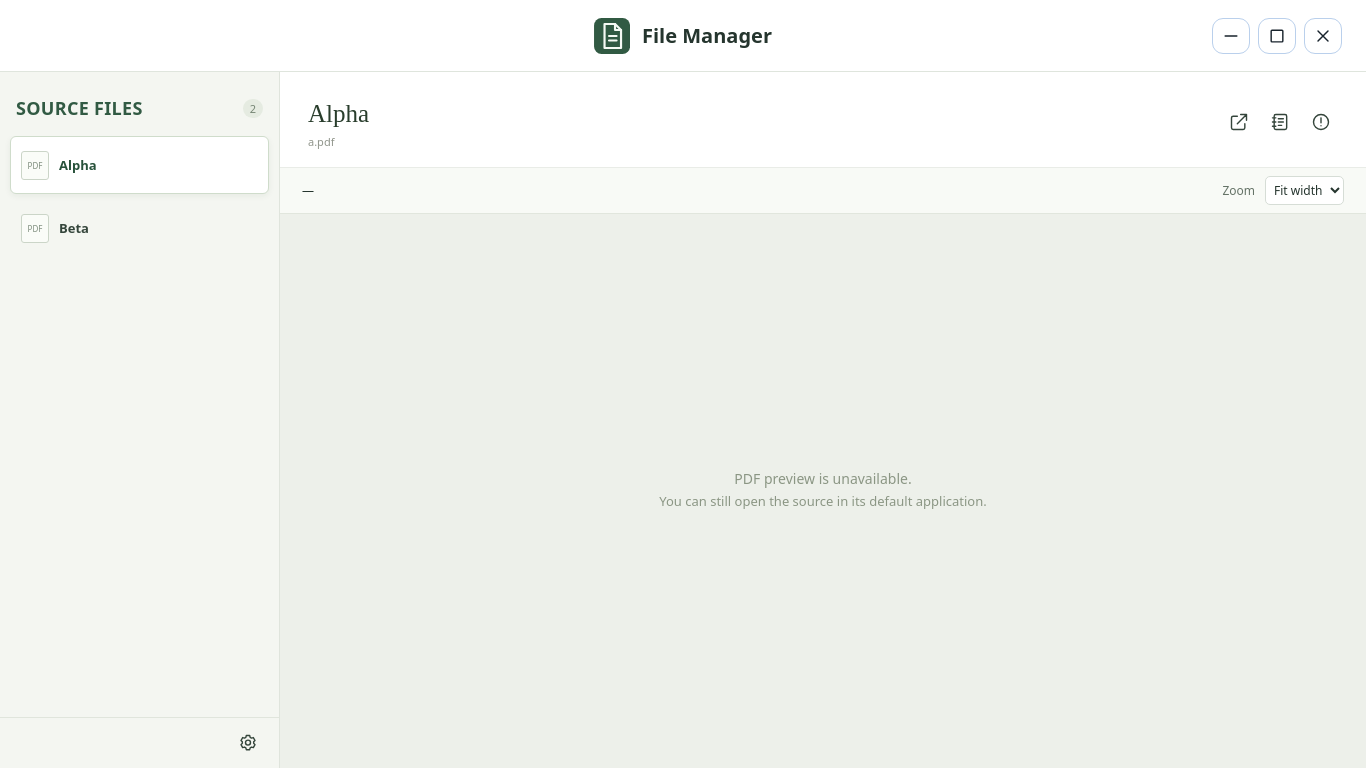
Scenario: core interactions › opens saved notes in Preview and keeps information edits when the dialog closes
The image size is (1366, 768).
Expected: the heading "Alpha" is shown, [308,100,369,128]
Expected: the button named "Details" is enabled, [1304,104,1338,138]
Step 1. Click the button named "Notes" → (1280, 122), box [1263,104,1297,138]
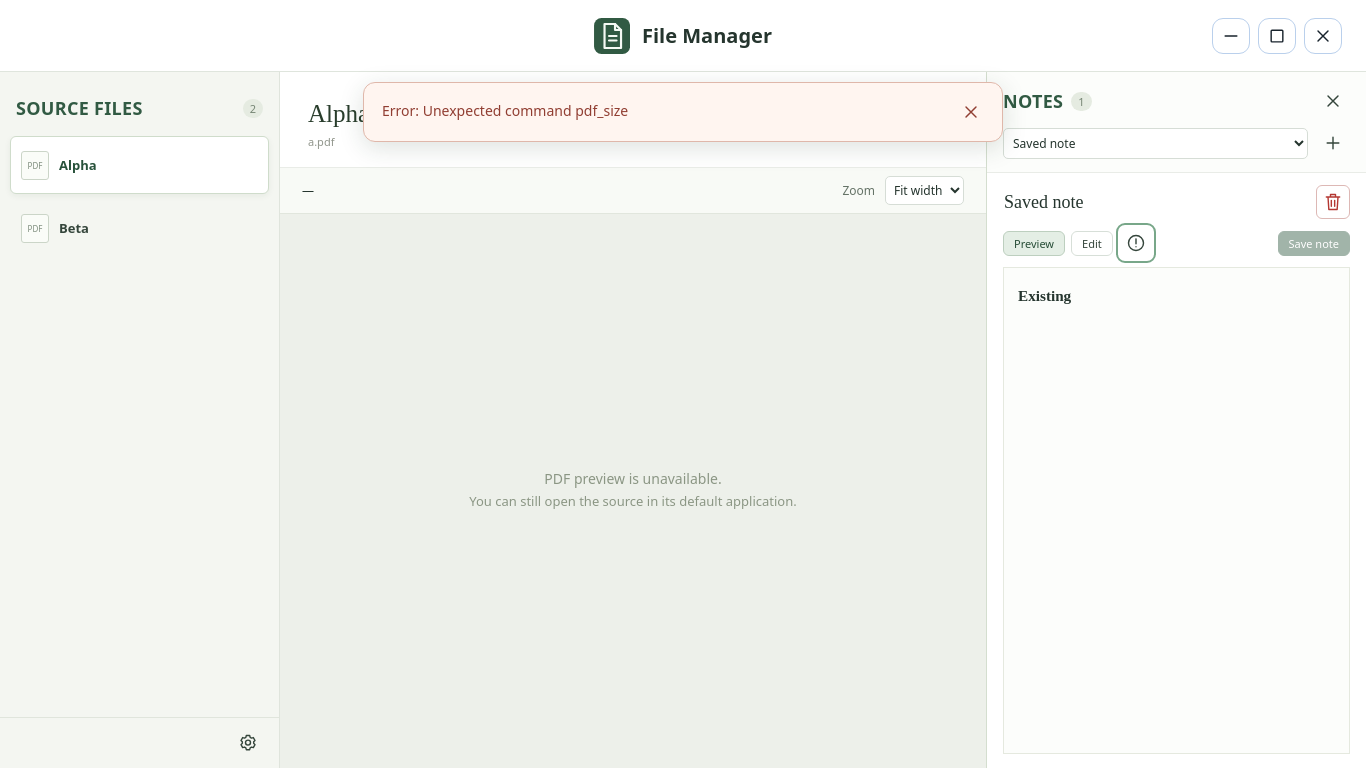
Expected: the text "File size" is not shown
Now the heading "Existing" is shown, box [1018,287,1071,304]
Step 2. Click the button named "Information" → (1136, 243), box [1119,226,1153,260]
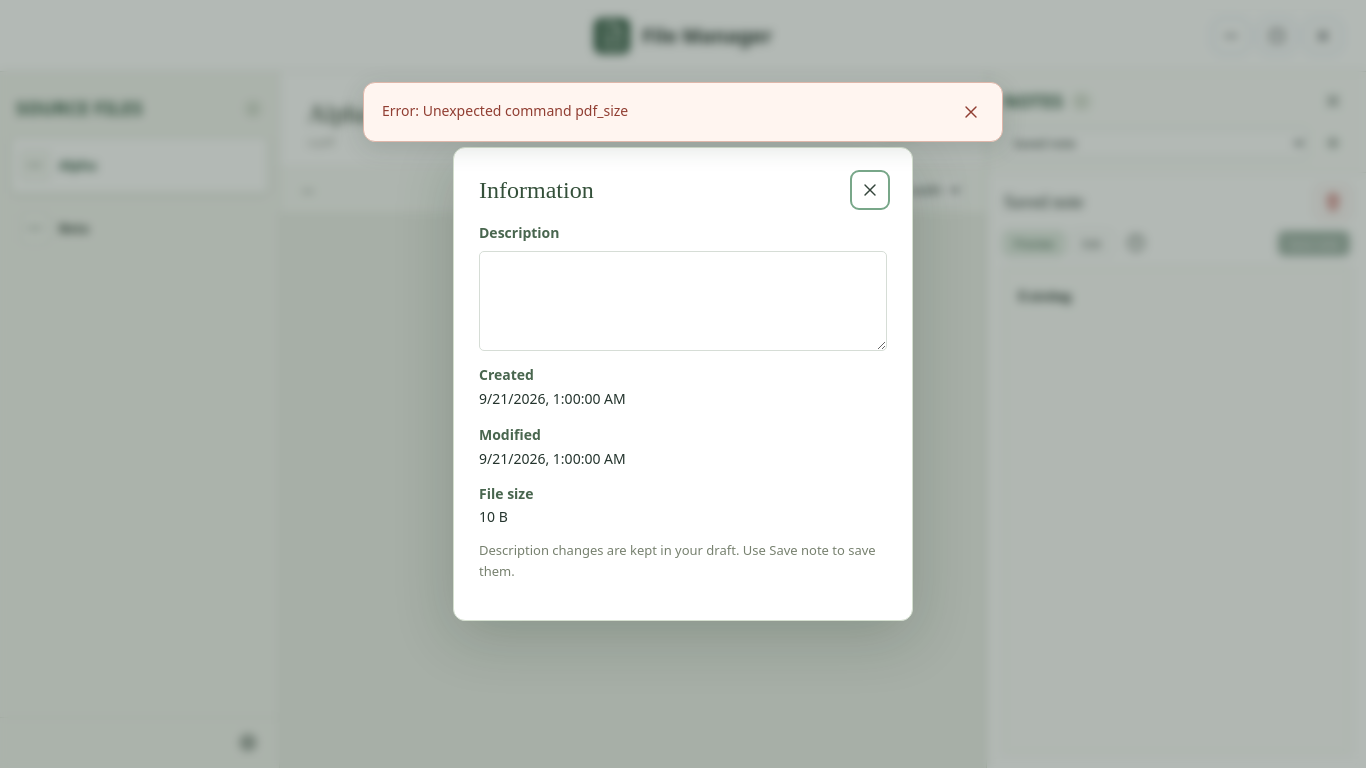
Now the text "10 B" is shown, box [479,507,508,526]
Step 3. Type "A useful context" into the text box named "Note description" → (683, 301), box [479,251,887,351]
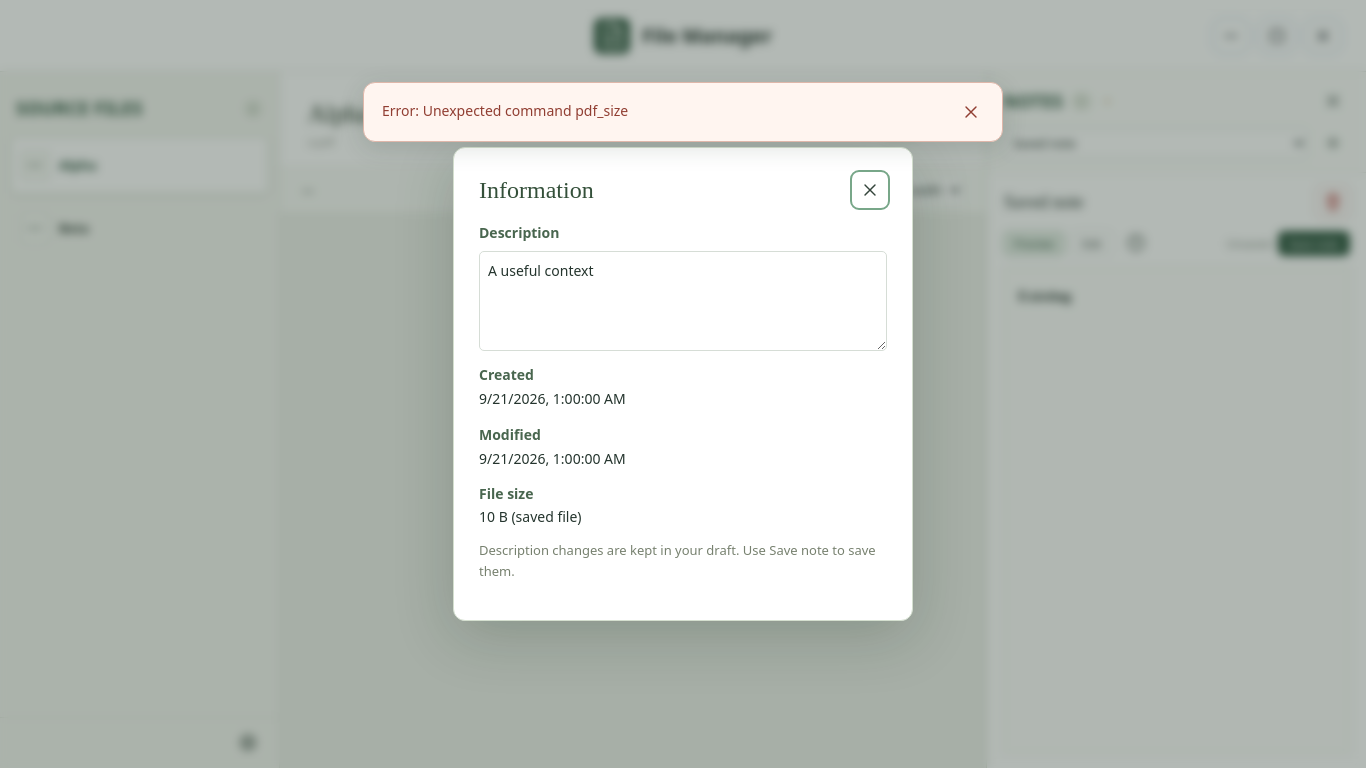
Step 4. Press Escape in the text box named "Note description", box [479,251,887,351]
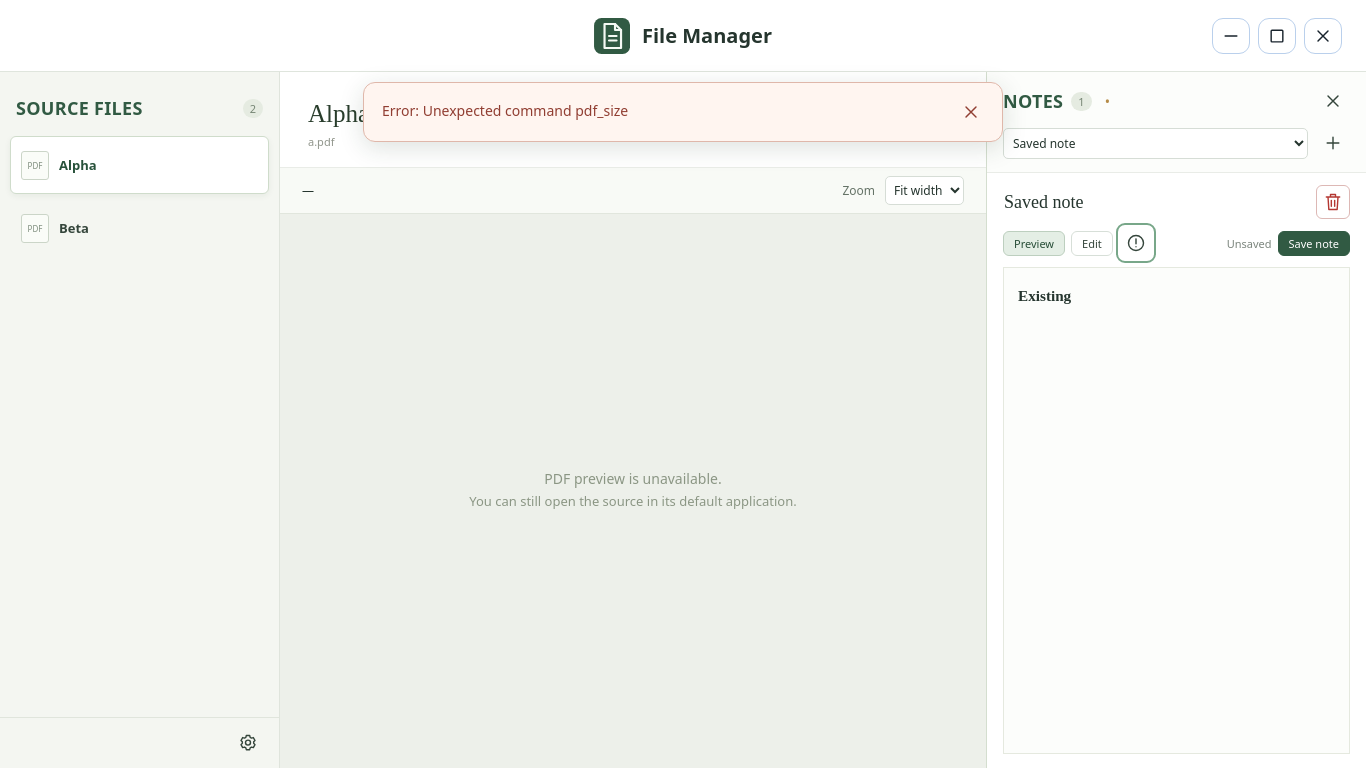
Now the dialog is gone
Step 5. Click the button named "Information" → (1136, 243), box [1119,226,1153,260]
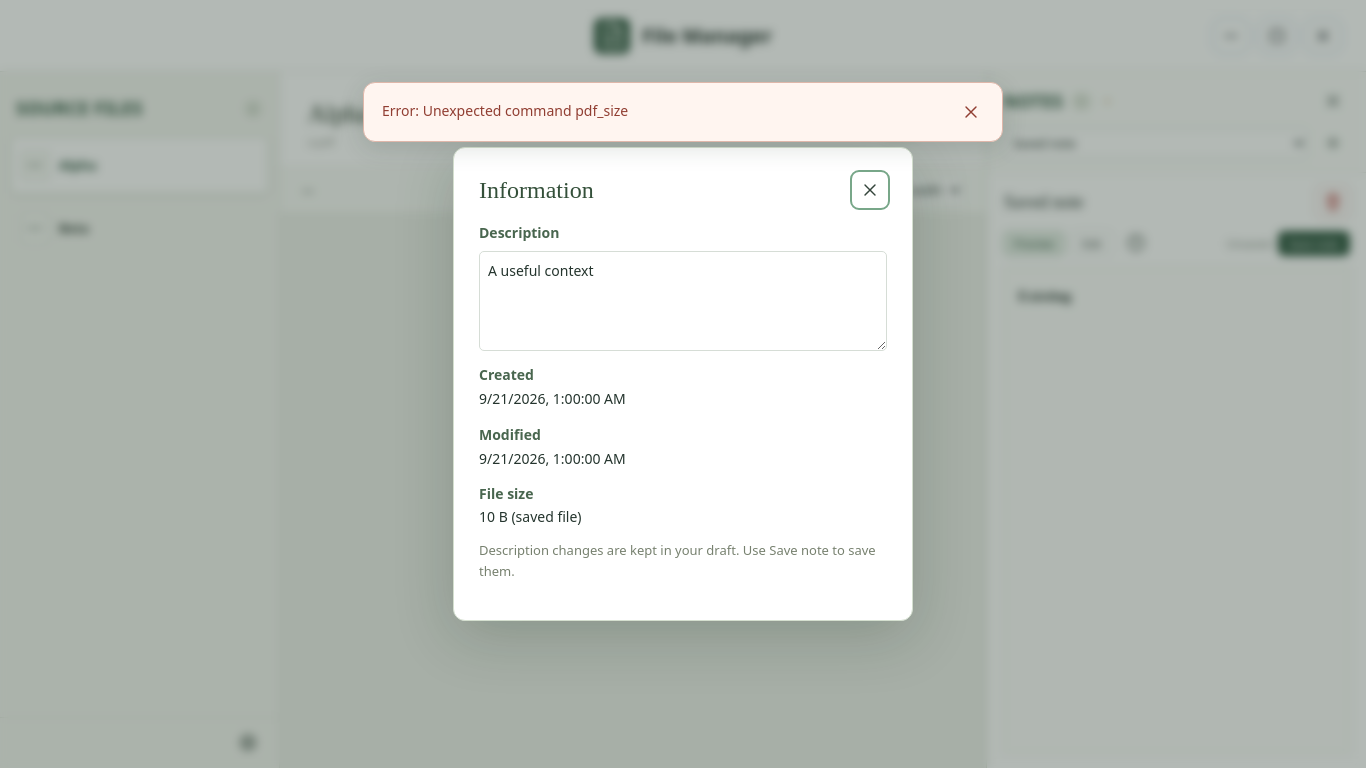
Now the text box named "Note description" holds "A useful context", box [479,251,887,351]
